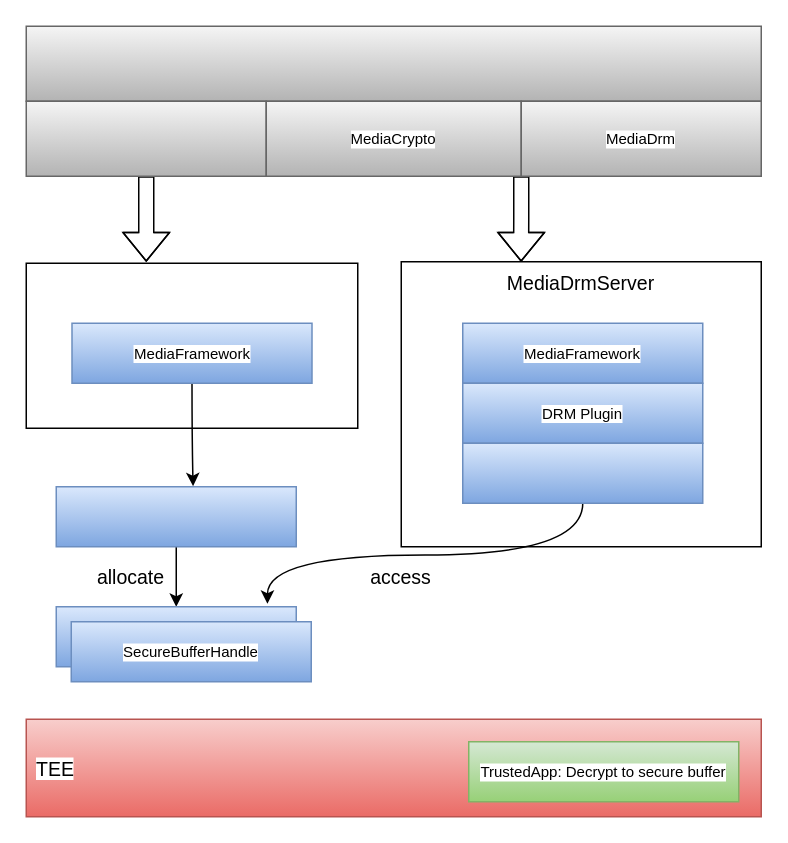
This 788x843 diagram has some shape labels left out. The shapes that lost their labels are listed below. From the top down, each one's box as (x1, y1, x2, y2) in pixels, then its label:
(25, 25, 761, 101): MediaPlayerApp
(25, 100, 266, 176): MediaCodec
(25, 262, 358, 428): MediaServer
(461, 442, 703, 503): DRM HAL(e.g. OEMCrypto)
(55, 485, 296, 547): OMX::allocateBuffer
